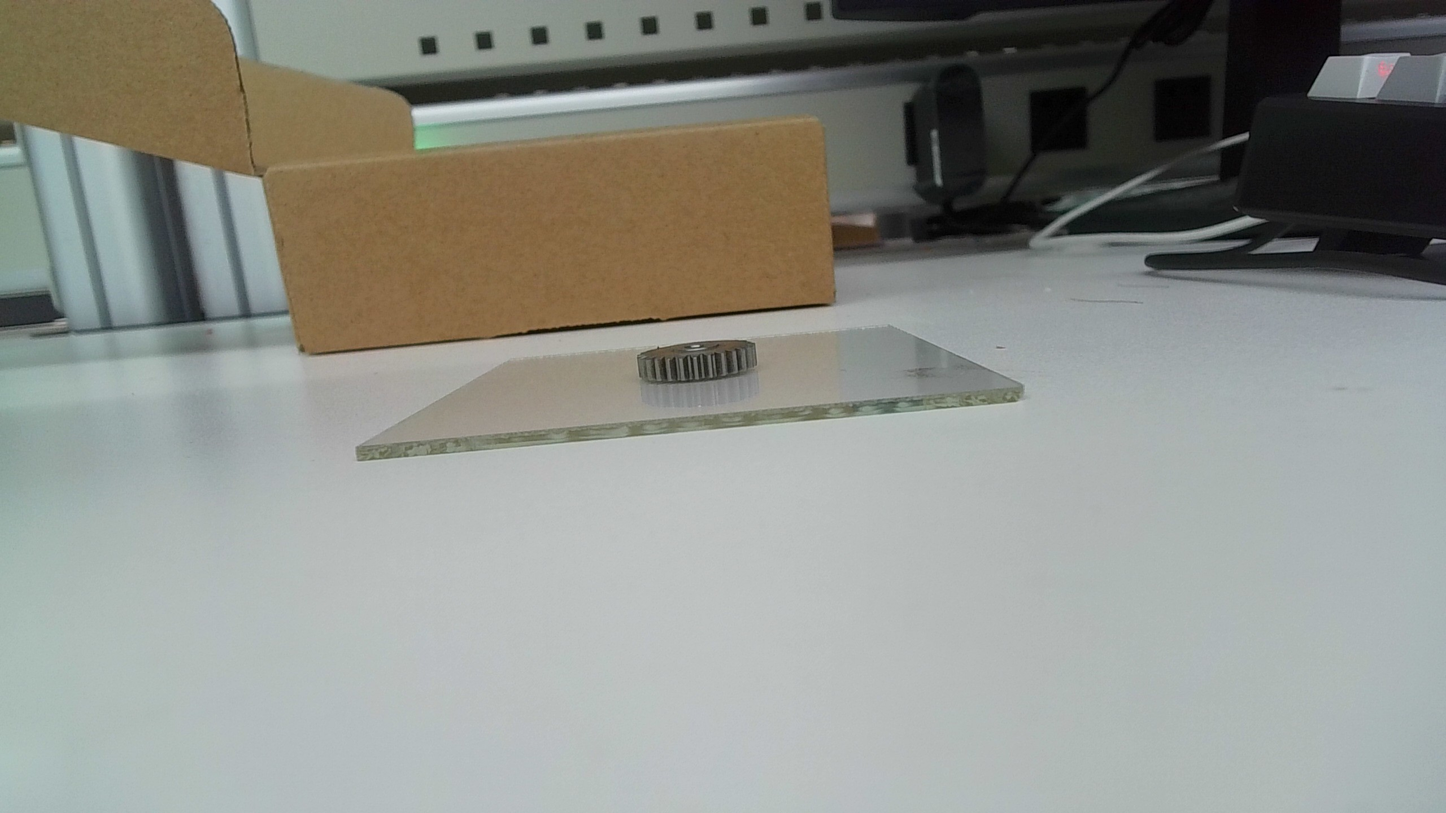gear: (634, 337, 761, 387)
